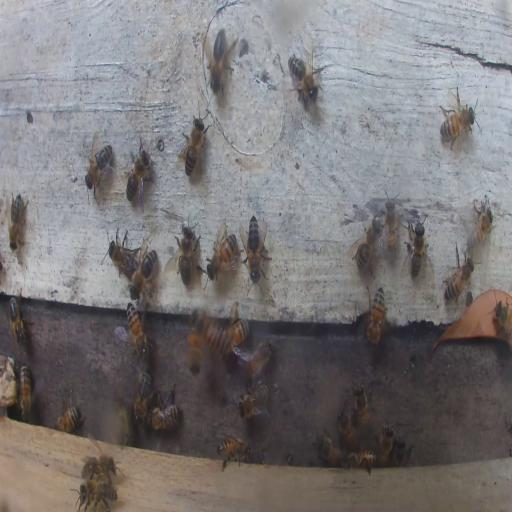nonpollenbee: (288, 44, 324, 108), (178, 110, 208, 180), (204, 25, 233, 95), (443, 242, 475, 302), (350, 212, 382, 272), (243, 214, 271, 282), (84, 136, 114, 198), (206, 226, 239, 282), (125, 145, 153, 208), (172, 220, 200, 282), (106, 226, 138, 280), (438, 100, 476, 140), (404, 216, 429, 276), (130, 247, 156, 301), (126, 303, 150, 360), (149, 387, 179, 432), (77, 478, 116, 512), (466, 200, 492, 250), (366, 286, 387, 346), (215, 318, 250, 354), (238, 381, 269, 419), (132, 369, 153, 425), (7, 192, 27, 250), (241, 340, 273, 376), (216, 436, 250, 468), (315, 432, 345, 468), (8, 293, 28, 346), (384, 192, 400, 255), (353, 380, 373, 430), (337, 408, 358, 447), (19, 364, 33, 422), (377, 420, 395, 464), (56, 406, 85, 433), (492, 300, 512, 338), (84, 456, 114, 478), (347, 449, 375, 471), (393, 438, 413, 464)
pollenbee: (187, 313, 205, 377)
